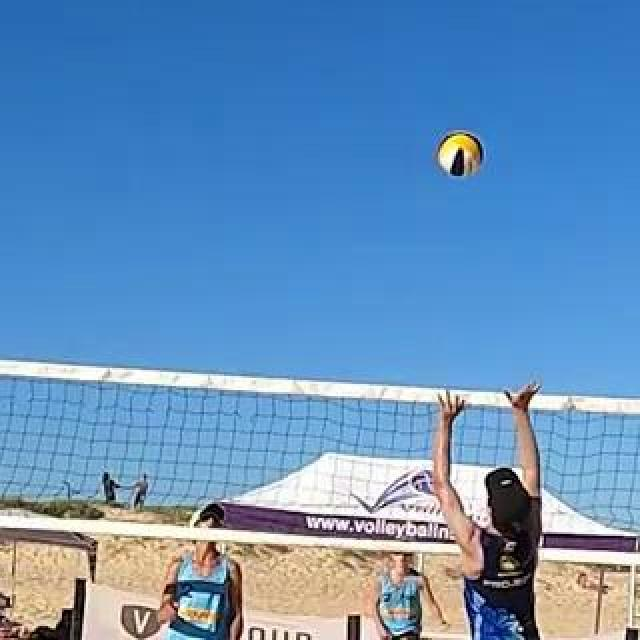volleyball: (439, 134, 483, 176)
